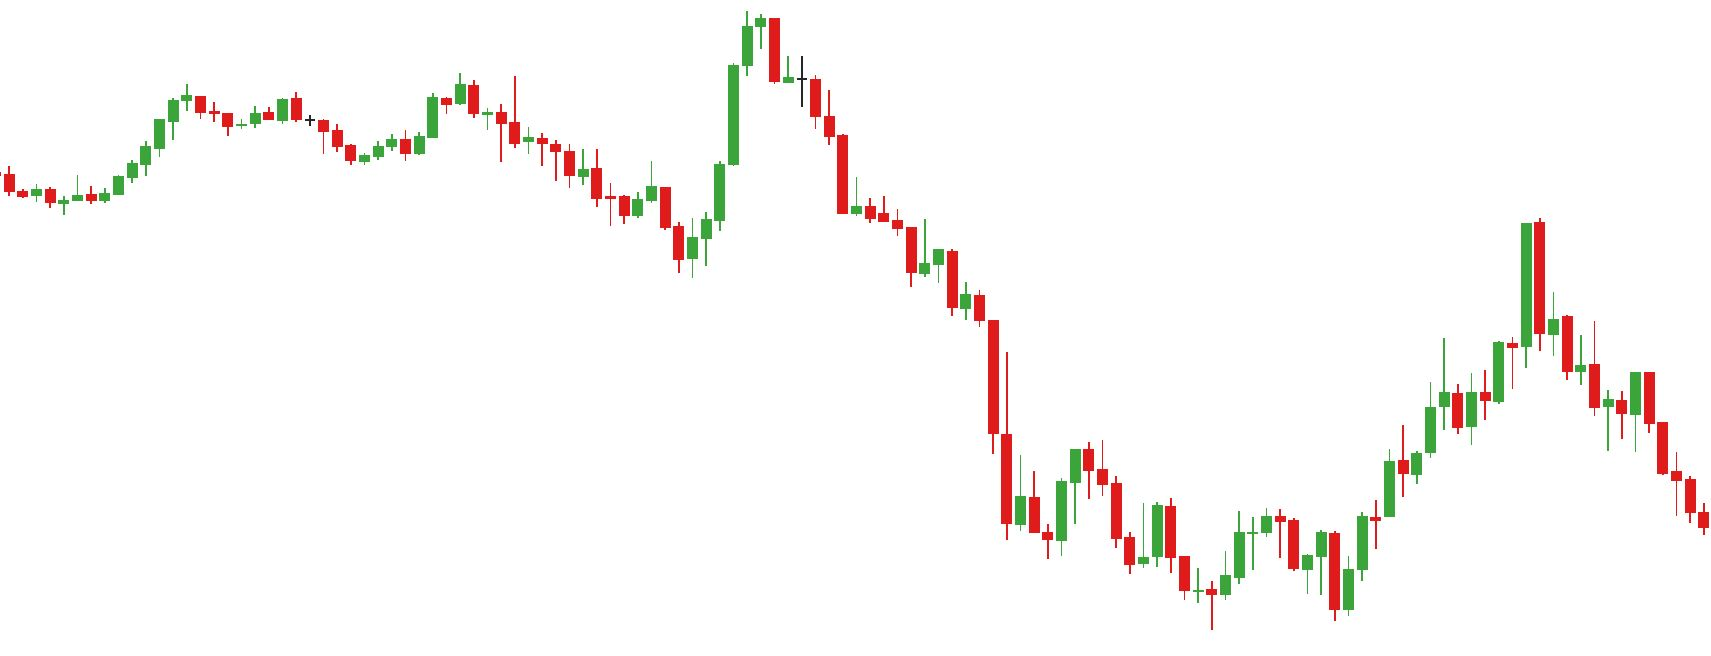sell: (507, 11, 785, 167)
